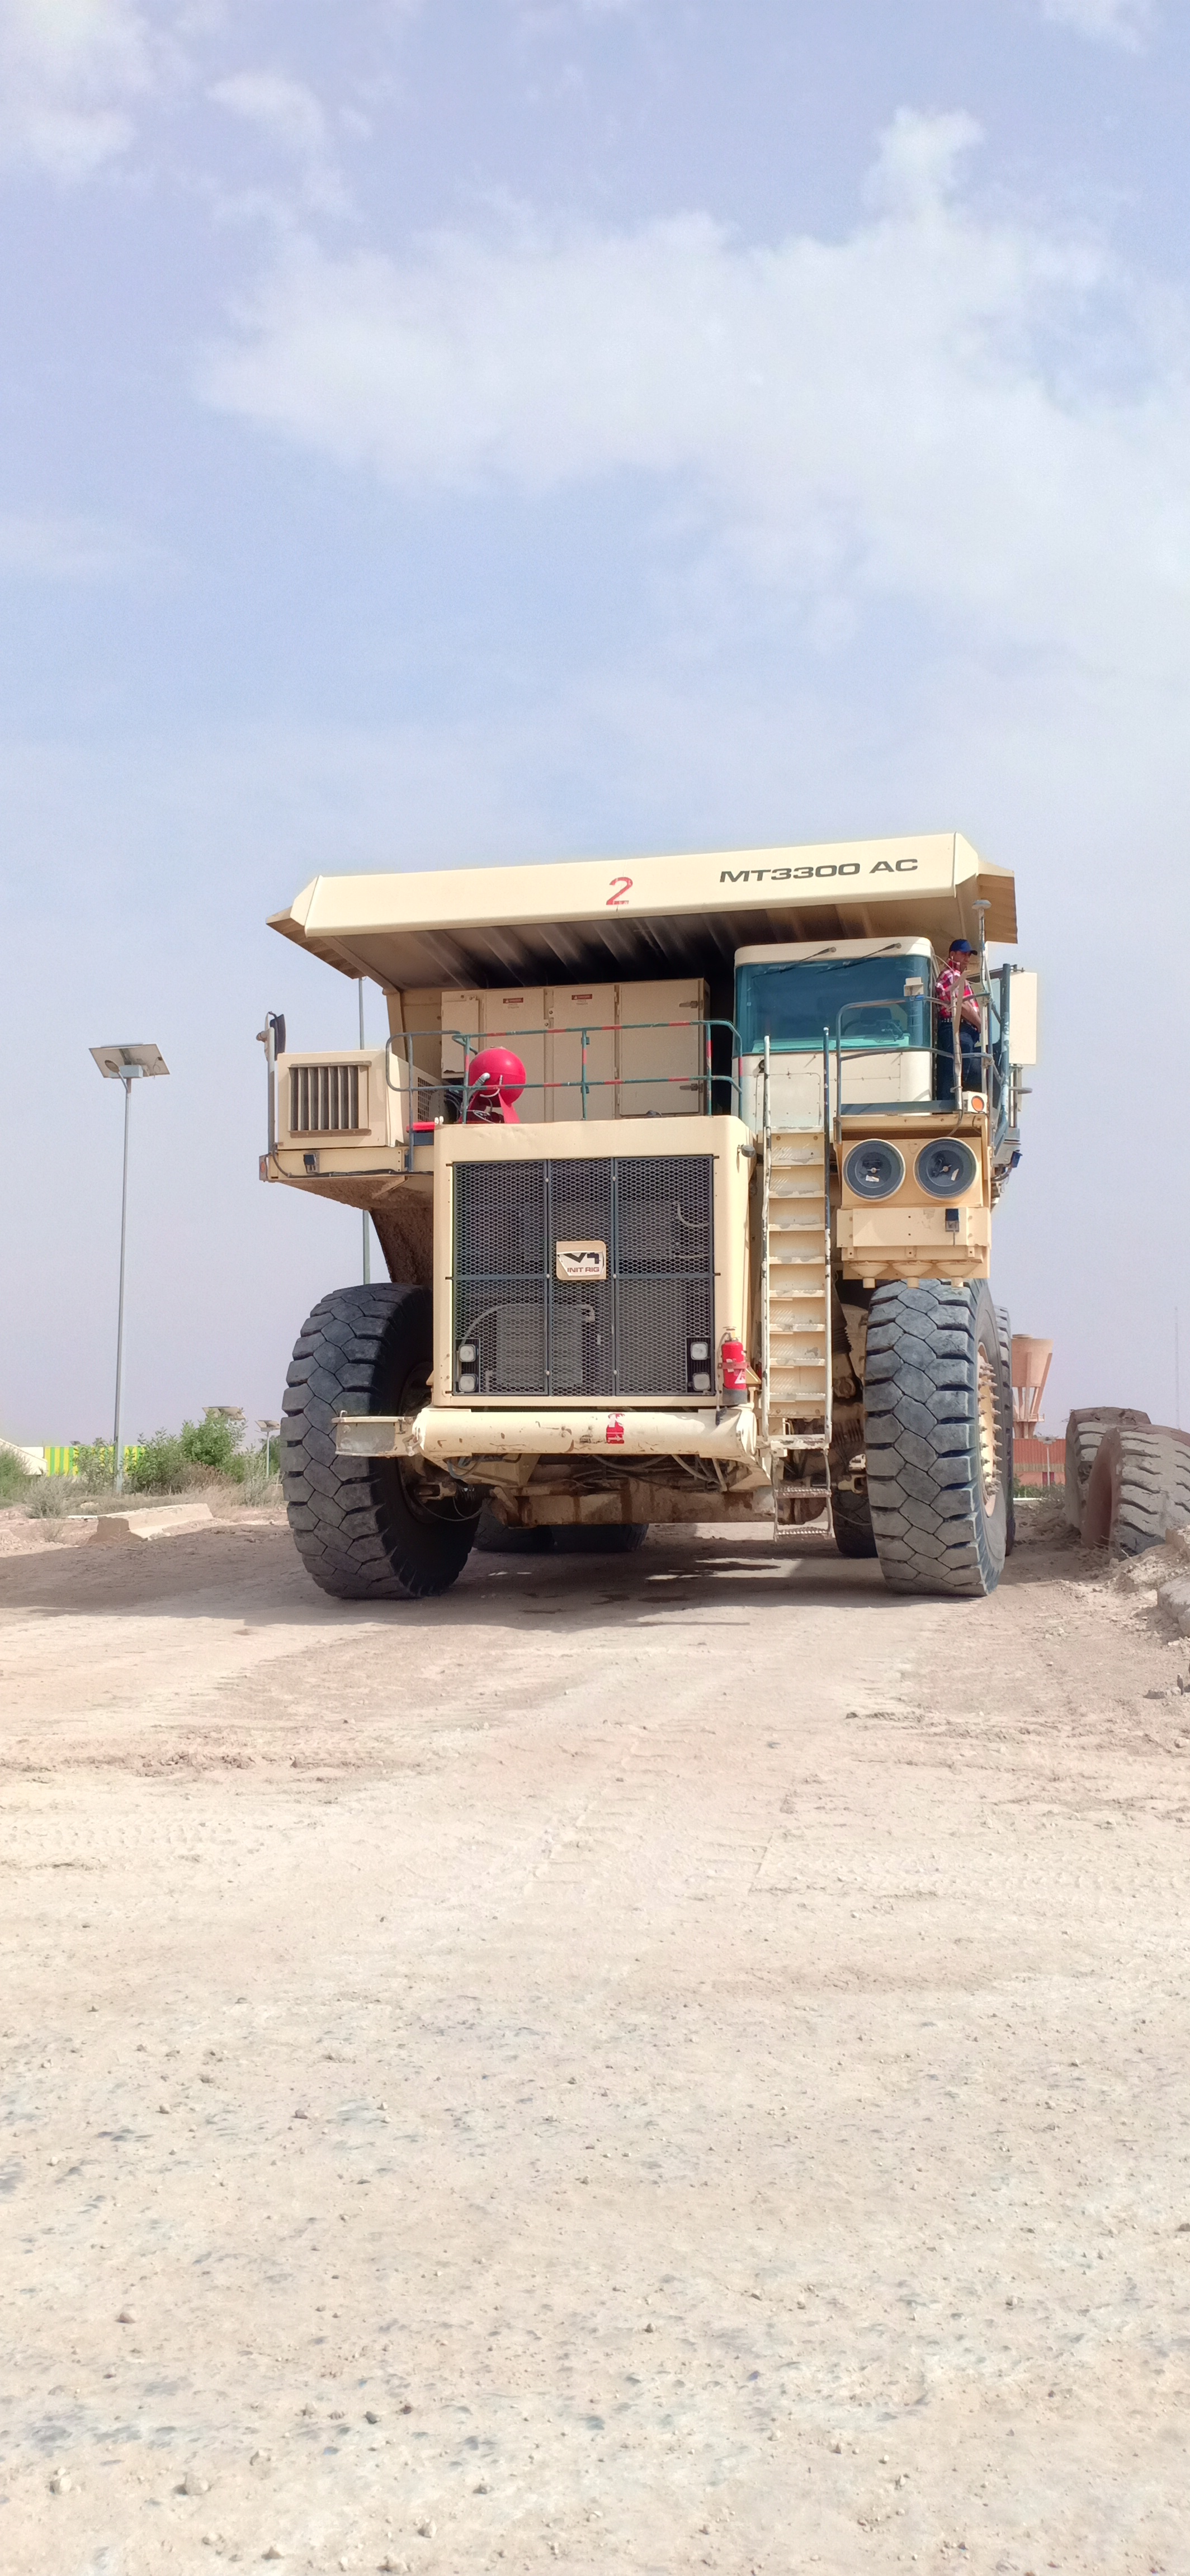camion: (222, 826, 1082, 1625)
